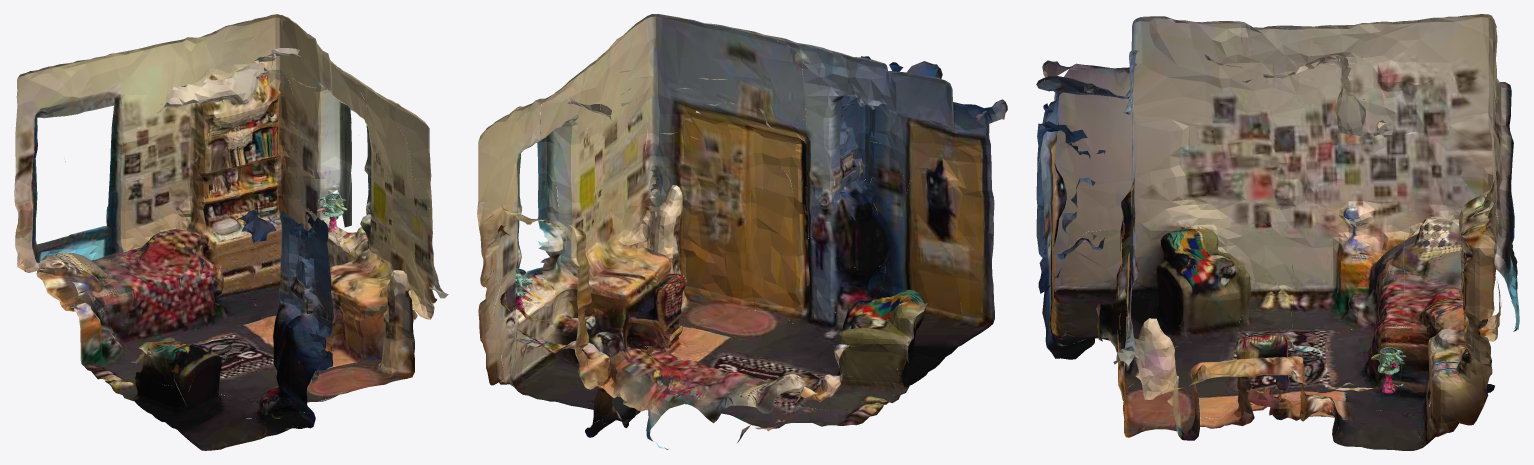
The model's file is room7.glb.
The picture shows the model from 3 angles, left to right: view 1: azimuth 30°, elevation 25°; view 2: azimuth 150°, elevation 25°; view 3: azimuth 270°, elevation 25°; orthographic projection. The views are drawn at different scales.
Visible parts, largest first — view 1: Mesh_0, Mesh_0.001; view 2: Mesh_0; view 3: Mesh_0, Mesh_0.001.
Part boxes in pixels (<box>): Mesh_0: <box>14,14,448,450</box>; Mesh_0.001: <box>316,192,347,232</box>; Mesh_0: <box>477,14,1007,449</box>; Mesh_0: <box>1036,14,1519,450</box>; Mesh_0.001: <box>1371,347,1406,393</box>.
Size of the model in its own units: 1.2 by 0.9789 by 1.42.
5 materials, 5 textured.
